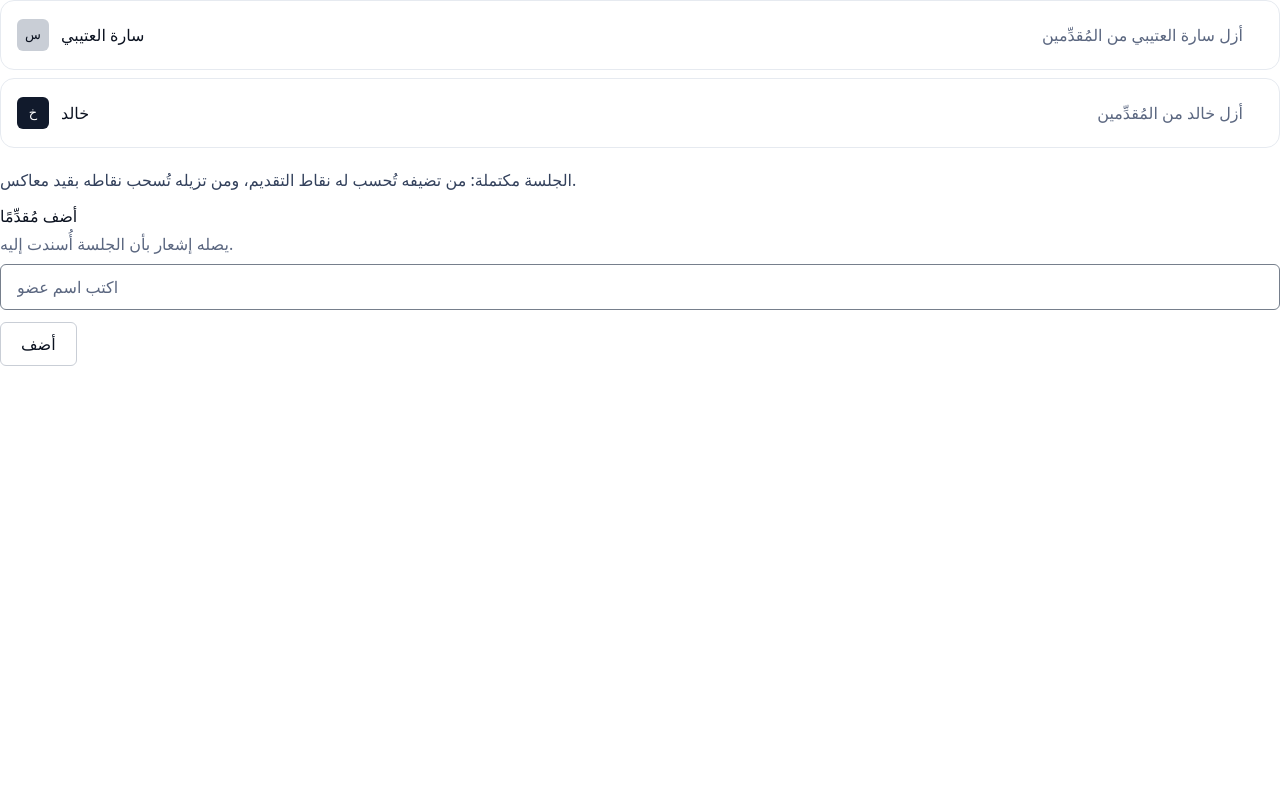
Test case: the confirm speaks of the session, and of points only after completion › after completion: the reversal is named, in the confirm and above the picker
Expected: the text "الجلسة مكتملة: من تضيفه تُحسب له نقاط التقديم، ومن تزيله تُسحب نقاطه بقيد معاكس." is shown, [0,169,576,191]
What coordinates should you click on to do the following:
click the button "أزل خالد من المُقدِّمين"
I would click on:
 (1170, 113)
Its box is [1077,91,1263,135].
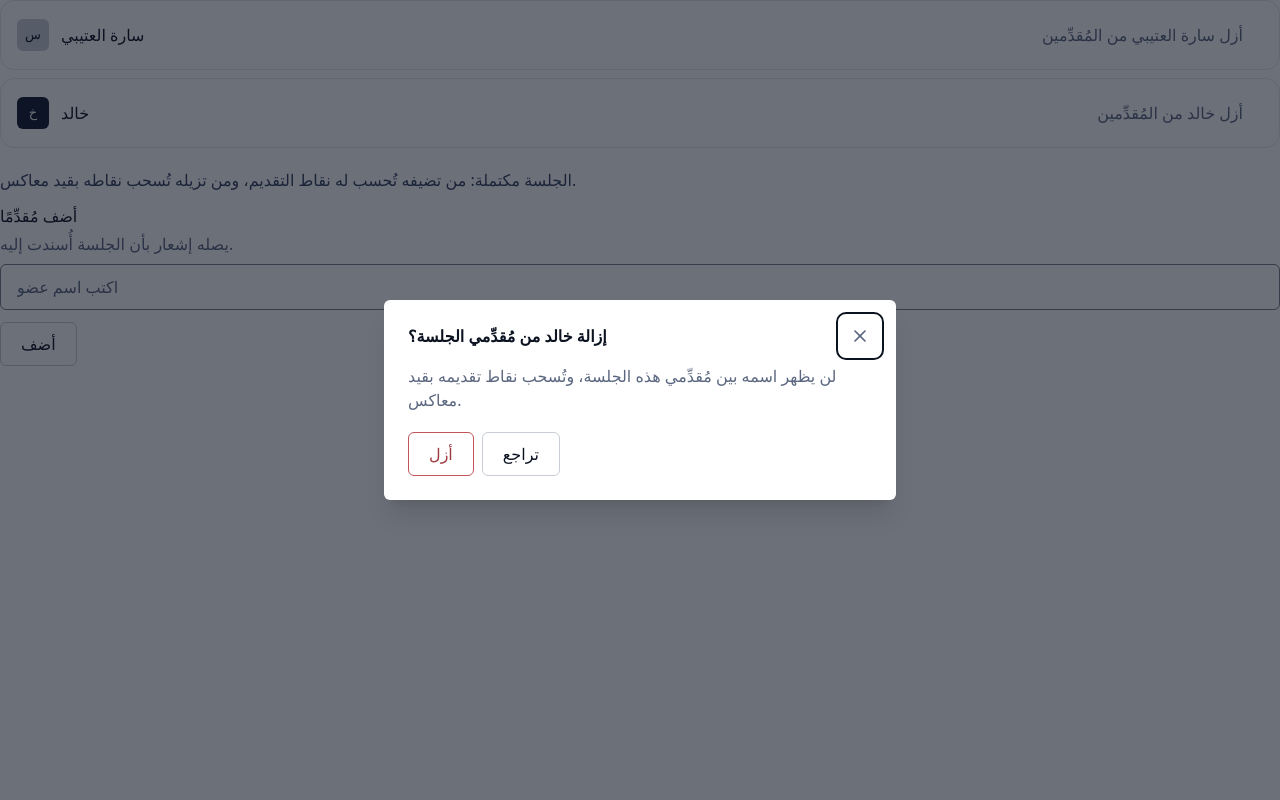
Expected: the dialog shows "لن يظهر اسمه بين مُقدِّمي هذه الجلسة، وتُسحب نقاط تقديمه بقيد معاكس.", [408,365,836,411]
